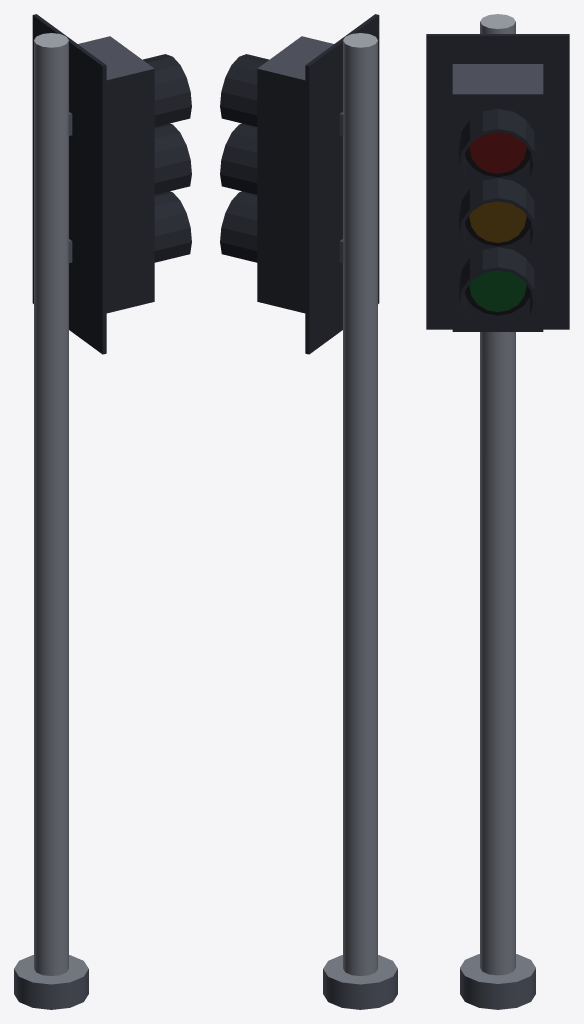
File: traffic_light.glb
The picture shows the model from 3 angles, left to right: view 1: azimuth 30°, elevation 25°; view 2: azimuth 150°, elevation 25°; view 3: azimuth 270°, elevation 25°; orthographic projection.
Parts seen in each view (by area): view 1: Pole, Housing; view 2: Pole, Housing; view 3: Housing, Pole, LampGreen, LampRed, LampYellow.
Part boxes in pixels (bbox=[...]): Pole: bbox=[14, 33, 88, 1009]; Housing: bbox=[32, 14, 191, 354]; Pole: bbox=[323, 33, 397, 1009]; Housing: bbox=[220, 14, 379, 354]; Housing: bbox=[426, 34, 569, 331]; Pole: bbox=[460, 14, 535, 1009]; LampGreen: bbox=[469, 270, 526, 311]; LampRed: bbox=[469, 132, 526, 173]; LampYellow: bbox=[469, 201, 526, 242].
Bounding box in the file's own units: 0.76 × 4.5 × 0.6.
